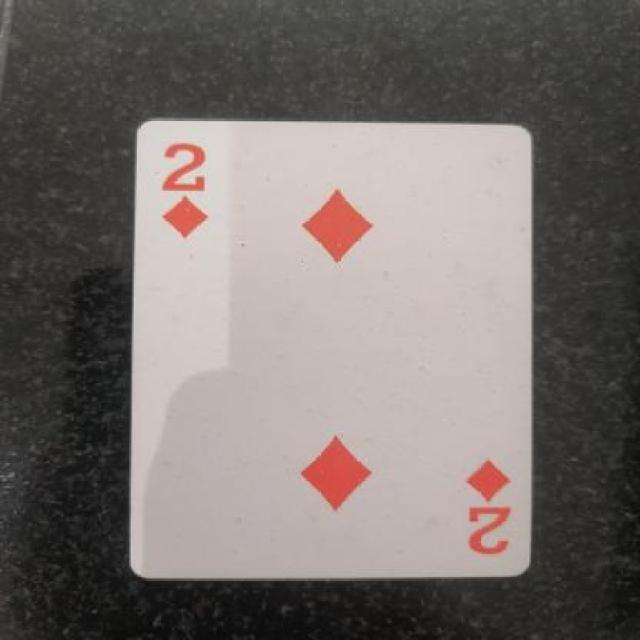2D: (148, 134, 223, 240), (454, 459, 518, 572)
